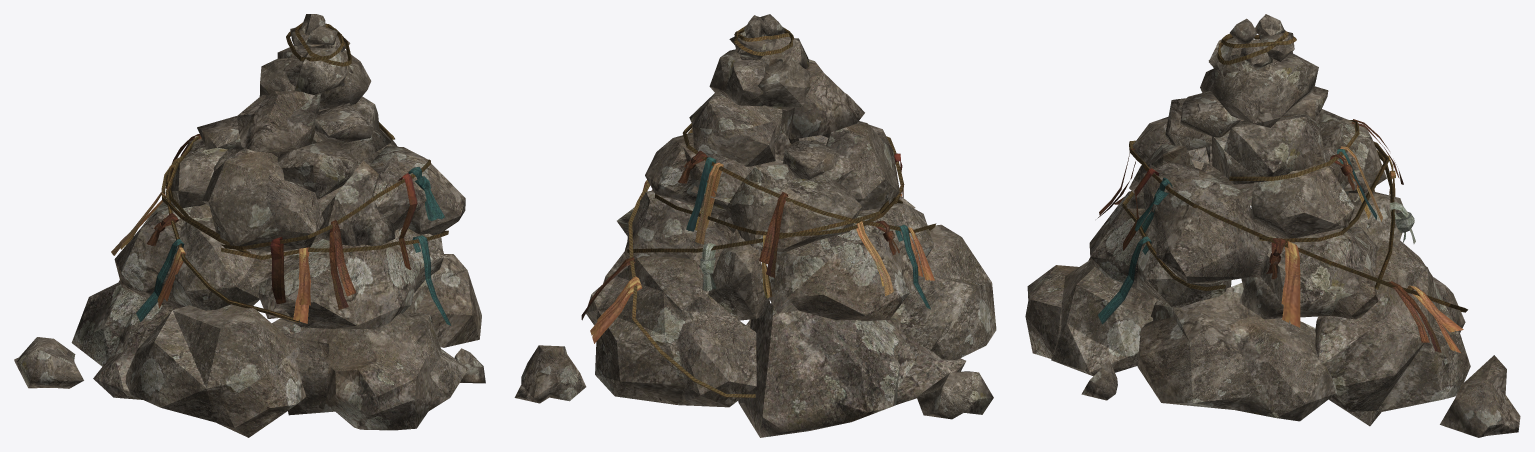
The model's file is bg_anh_etc_stonegrave_sm_old.FBX.
The picture shows the model from 3 angles, left to right: view 1: azimuth 30°, elevation 25°; view 2: azimuth 150°, elevation 25°; view 3: azimuth 270°, elevation 25°; orthographic projection. The views are drawn at different scales.
Parts seen in each view (by area): view 1: bg_anh_etc_stonegrave_sm_old; view 2: bg_anh_etc_stonegrave_sm_old; view 3: bg_anh_etc_stonegrave_sm_old.
Part boxes in pixels (x1=…): bg_anh_etc_stonegrave_sm_old: x1=14, y1=14, x2=485, y2=437; bg_anh_etc_stonegrave_sm_old: x1=514, y1=14, x2=996, y2=437; bg_anh_etc_stonegrave_sm_old: x1=1025, y1=14, x2=1520, y2=437.
Size of the model in its own units: 290 by 243 by 294.
